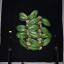leaf: (40, 27, 51, 37), (19, 36, 28, 48), (40, 16, 50, 26), (28, 10, 38, 19), (28, 24, 39, 32), (40, 38, 51, 46), (16, 25, 28, 32), (16, 32, 28, 39), (19, 12, 28, 21), (28, 18, 40, 24), (29, 32, 41, 38), (30, 39, 40, 46), (40, 33, 53, 38), (28, 45, 40, 50), (24, 33, 28, 38), (40, 42, 44, 46), (25, 25, 28, 29), (40, 18, 43, 21), (28, 16, 30, 19)
